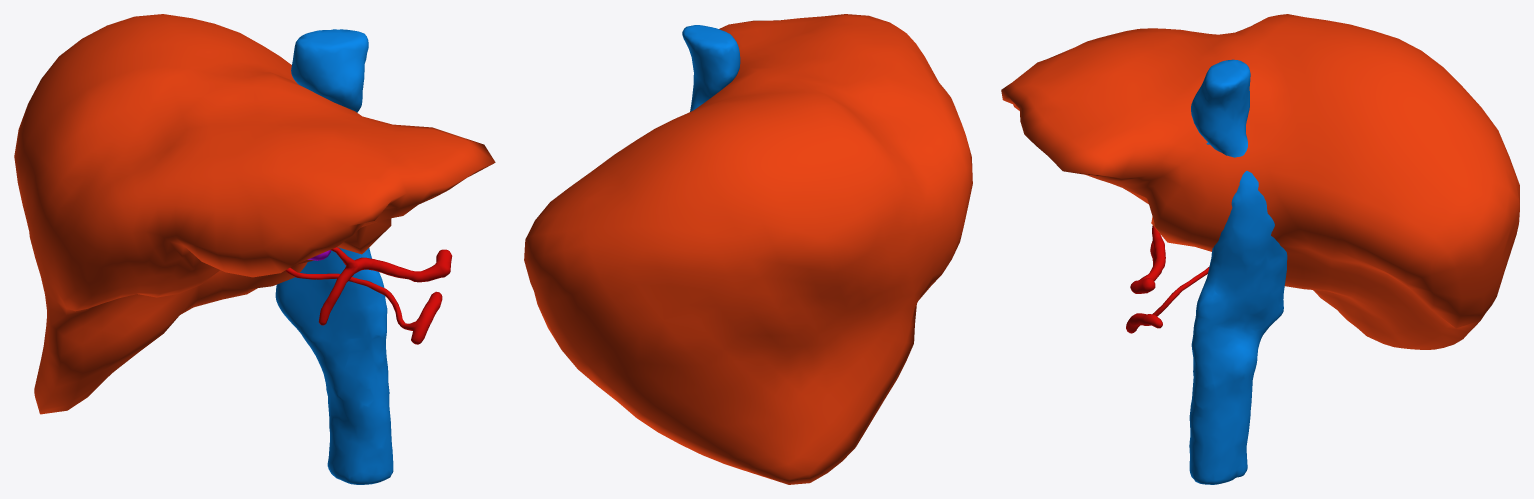
Rendered from LiverForColliders_1_2.fbx.
3 views of the same model, side by side, from view 1: azimuth 30°, elevation 25°; view 2: azimuth 150°, elevation 25°; view 3: azimuth 270°, elevation 25° (orthographic). The views are drawn at different scales.
Visible parts, largest first — view 1: Parenchyma_complex_1, Venous_complex_1, Arterial_complex_1; view 2: Parenchyma_complex_1, Venous_complex_1; view 3: Parenchyma_complex_1, Venous_complex_1, Arterial_complex_1.
Part boxes in pixels (x1,y1,x2,y2): Parenchyma_complex_1: (14,14,495,414); Venous_complex_1: (275,29,393,484); Arterial_complex_1: (285,247,452,344); Parenchyma_complex_1: (524,14,972,484); Venous_complex_1: (682,25,740,111); Parenchyma_complex_1: (1001,14,1519,349); Venous_complex_1: (1189,59,1287,484); Arterial_complex_1: (1126,225,1209,333).
Size of the model in its own units: 80.56 by 92.94 by 111.
